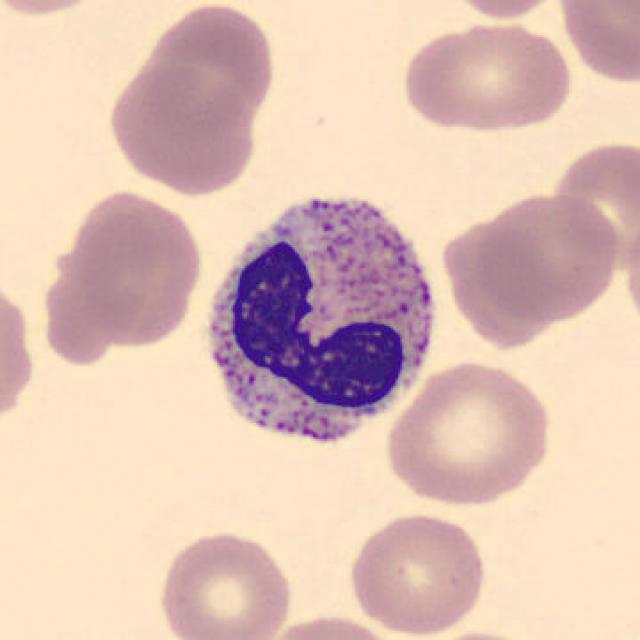Neutrophil: (190, 174, 448, 470)
RBC: (380, 356, 556, 508), (62, 187, 206, 353), (103, 60, 261, 197), (396, 18, 576, 136), (471, 190, 624, 324), (345, 508, 491, 638), (139, 0, 279, 134), (438, 212, 566, 354), (153, 527, 297, 640), (546, 137, 638, 284), (554, 0, 638, 86), (0, 273, 39, 434), (256, 612, 405, 640), (437, 0, 571, 21), (620, 205, 640, 342), (0, 0, 114, 18)
